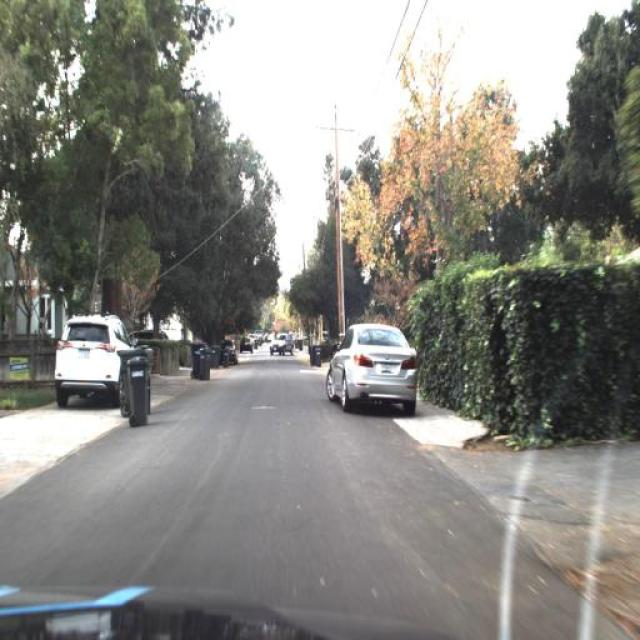car: (325, 320, 421, 414), (51, 305, 141, 405), (52, 312, 126, 412), (123, 318, 171, 354), (267, 332, 294, 357), (221, 336, 237, 360), (240, 332, 254, 353), (314, 325, 330, 343)
